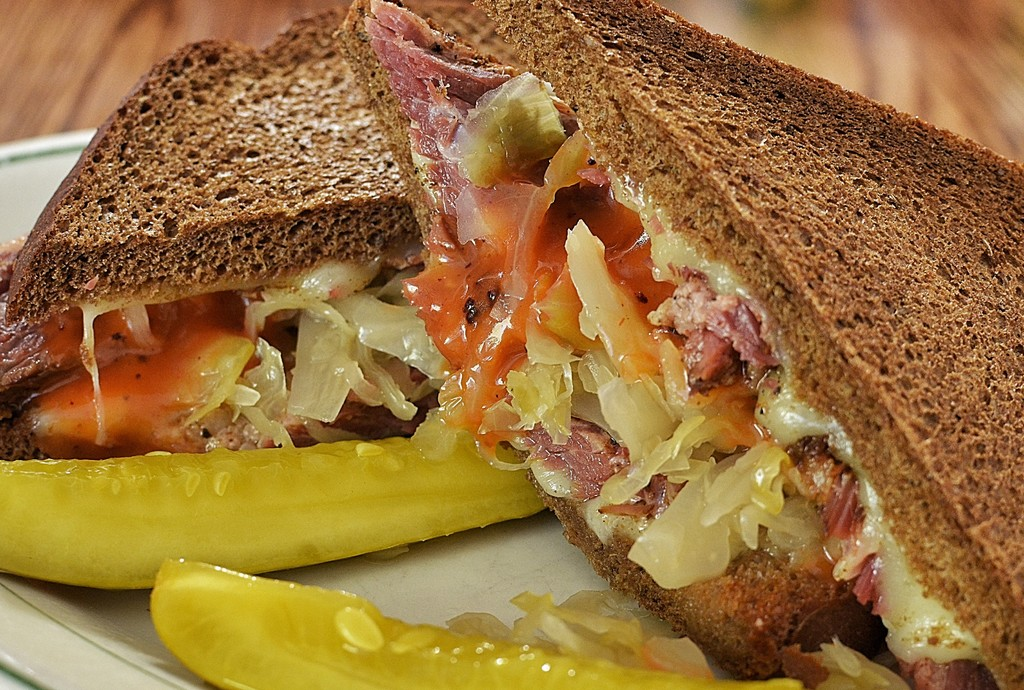sandwich: (335, 0, 1023, 689), (0, 1, 556, 512)
